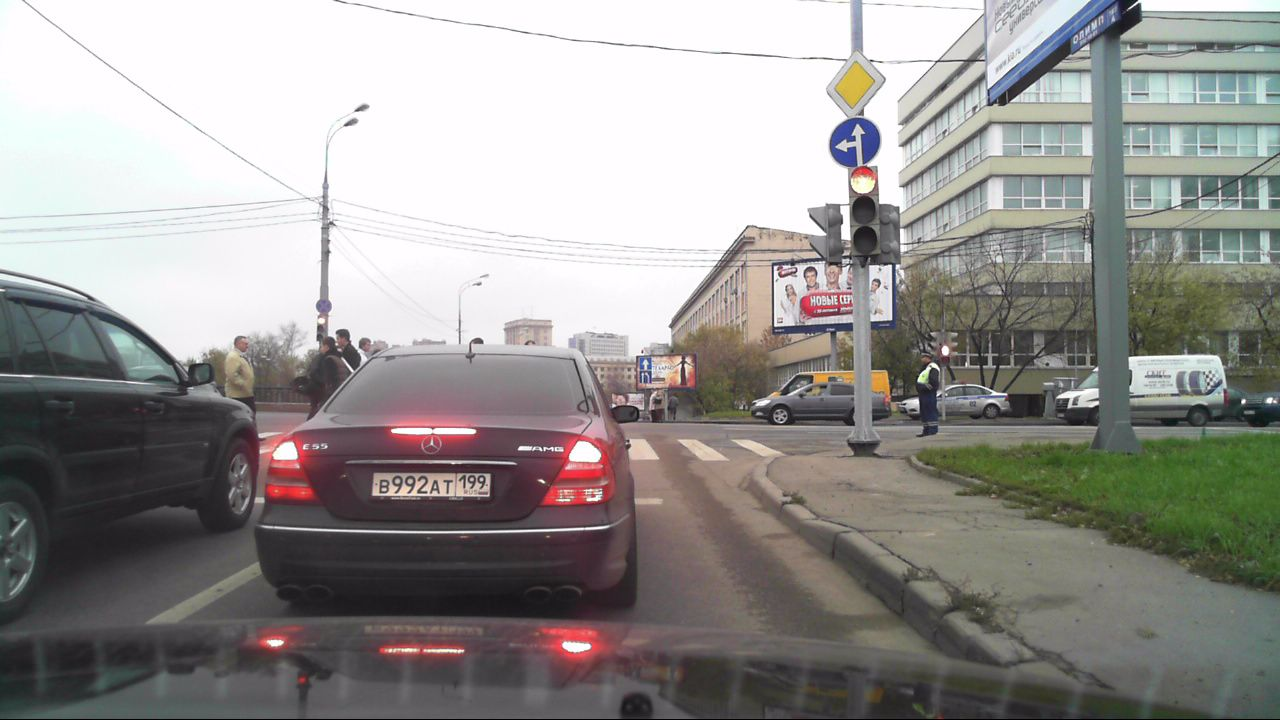No Parking: (315, 298, 333, 315)
